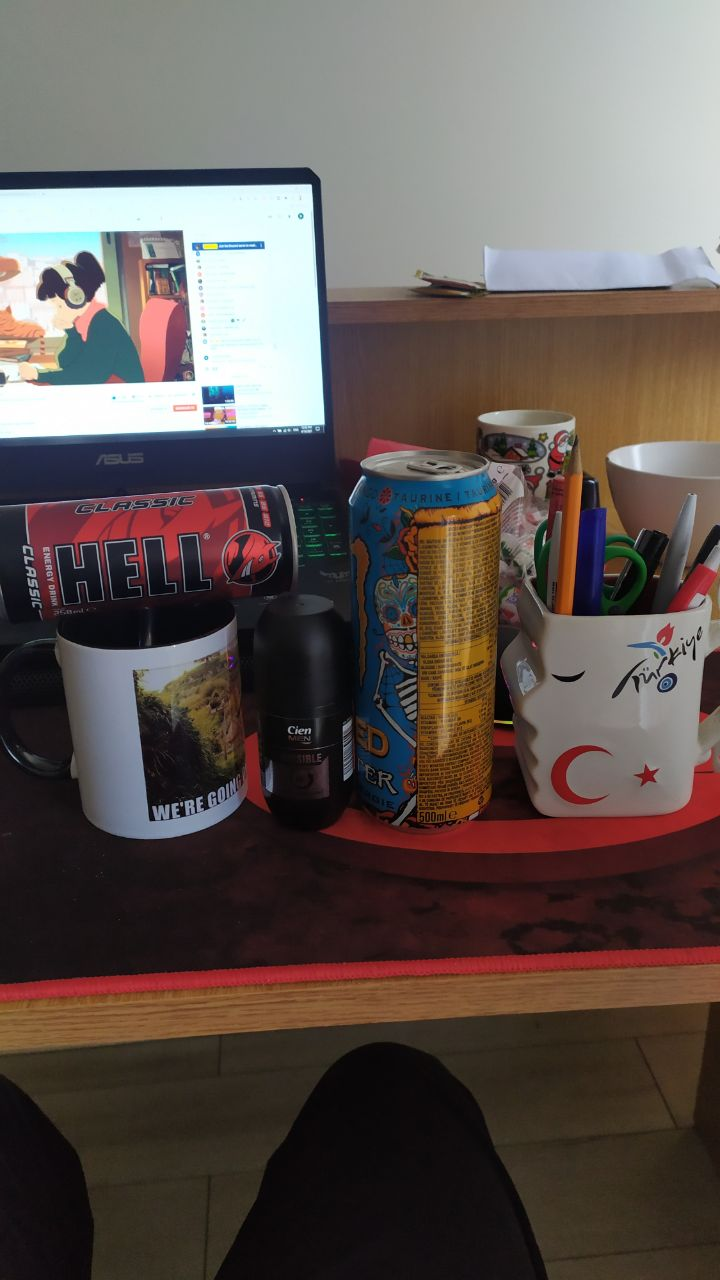Can: (347, 449, 493, 832), (5, 485, 305, 628)
